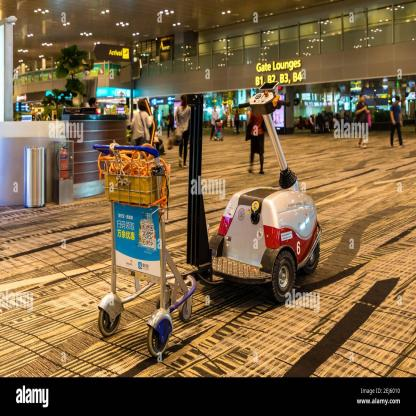airport-trolley: (91, 136, 203, 351)
